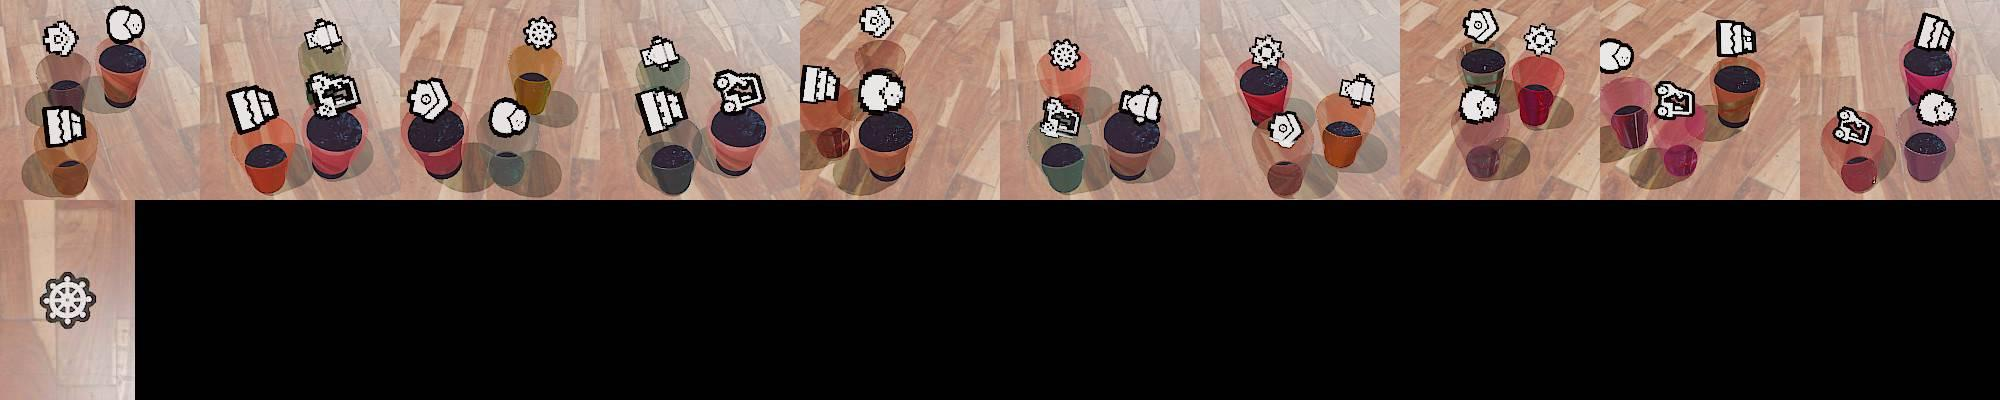icon: (38, 272, 96, 329), (225, 84, 280, 135), (305, 71, 361, 119), (635, 87, 688, 135), (712, 68, 764, 116), (856, 68, 906, 116), (405, 76, 454, 122), (40, 103, 86, 148), (1039, 94, 1083, 139), (1118, 83, 1163, 126), (487, 96, 530, 137), (1655, 79, 1696, 120), (1832, 105, 1873, 145), (801, 64, 842, 104), (1915, 12, 1954, 54), (1716, 19, 1757, 58), (1458, 86, 1499, 125), (105, 5, 146, 43), (1915, 90, 1958, 126), (1266, 109, 1305, 148), (41, 18, 78, 58), (639, 35, 681, 70), (303, 18, 343, 53), (1462, 7, 1499, 44), (522, 16, 559, 52), (1597, 38, 1633, 74), (858, 4, 894, 39), (1523, 23, 1559, 58), (1339, 74, 1375, 108), (1249, 33, 1285, 67), (1046, 37, 1081, 71)
